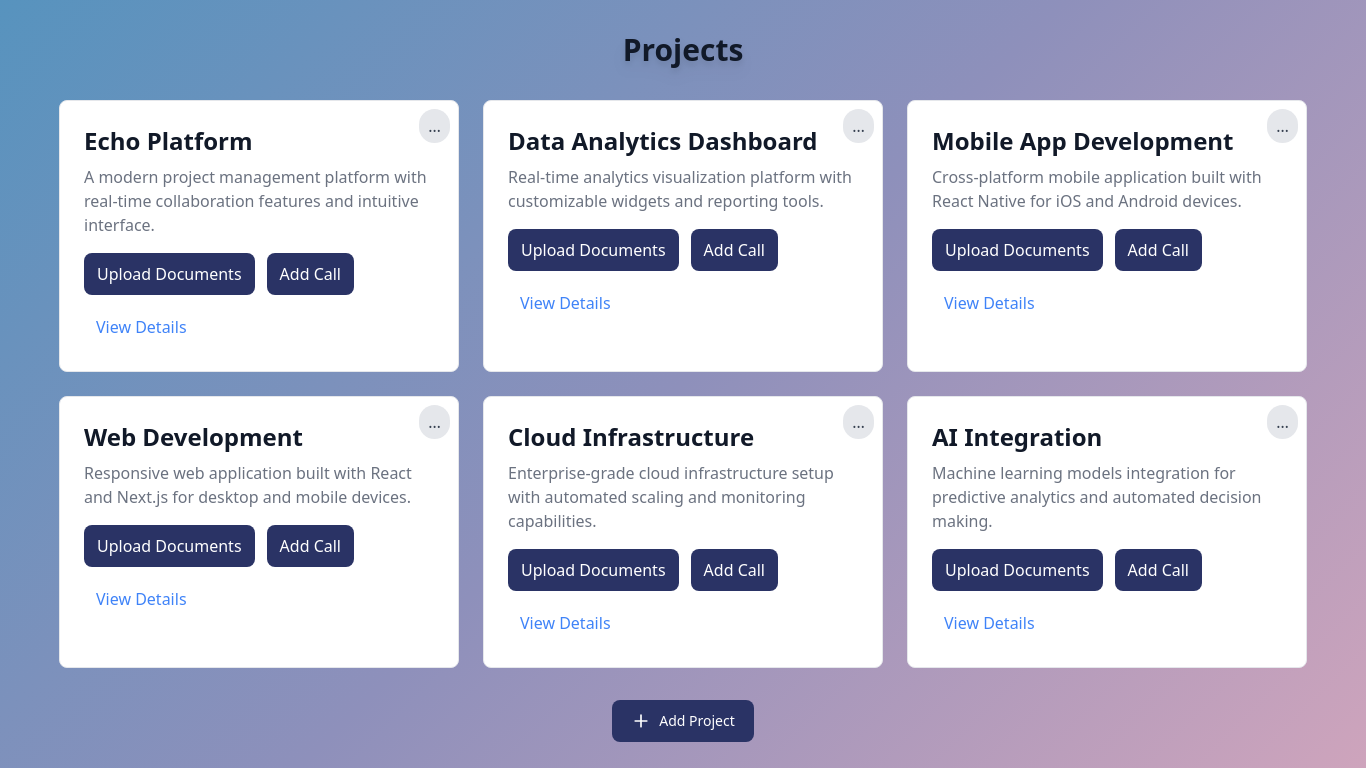
Test: Projects › opens Upload File modal when upload button is clicked
Check: the heading "Echo Platform" is shown, box x1=84 y1=124 x2=253 y2=157
# Click upload button
What coordinates should you click on to do the following:
click the button "Upload Documents" below "Echo Platform"
I would click on:
 (169, 274)
Its box is x1=84 y1=253 x2=255 y2=295.
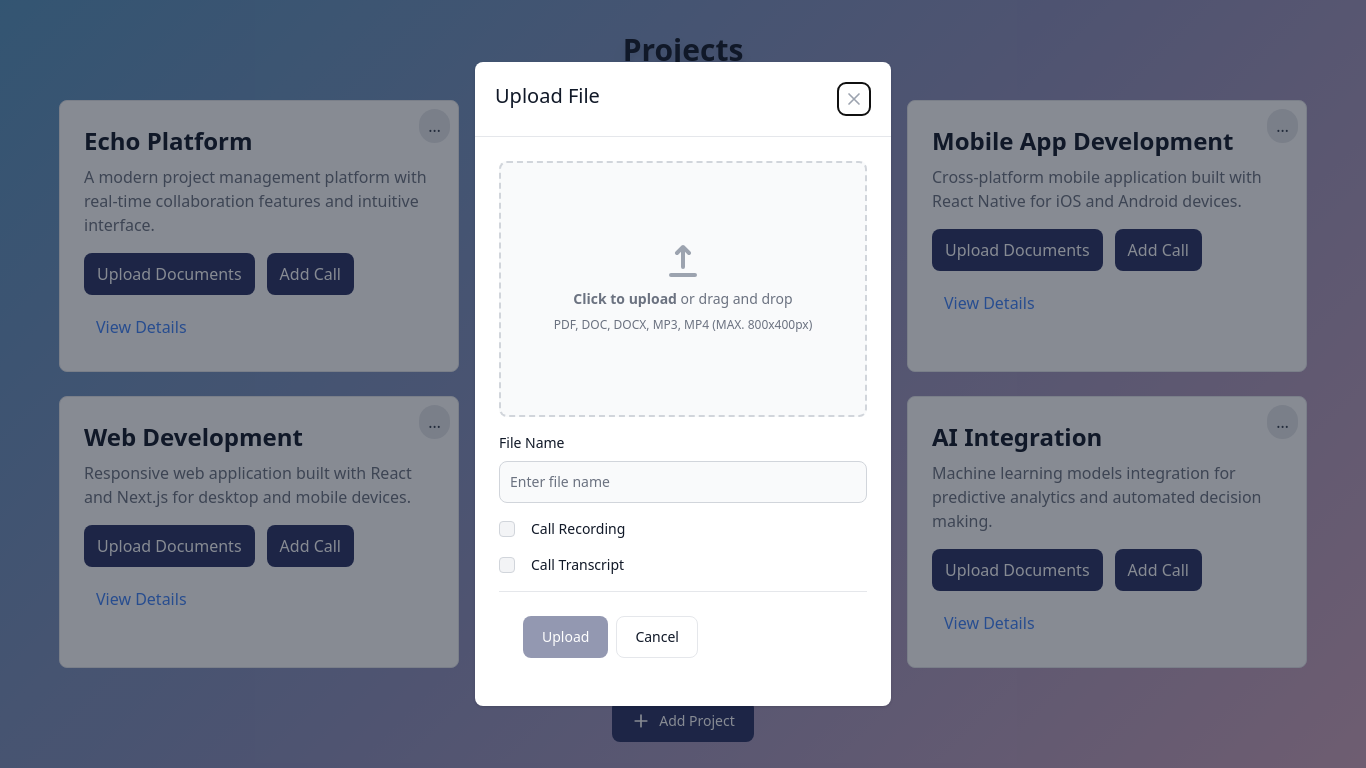
Check: the heading "Upload File" is shown, box x1=495 y1=82 x2=600 y2=110
Check: the file field with test id "file-input" is shown, box x1=499 y1=161 x2=867 y2=417
